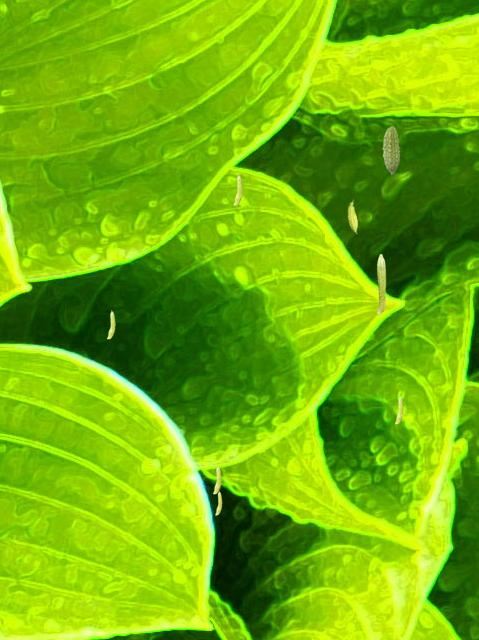ampalaya: (382, 125, 400, 175), (376, 253, 386, 315), (347, 199, 358, 234), (233, 173, 242, 205), (106, 309, 115, 339), (212, 464, 221, 494), (394, 394, 403, 424), (214, 490, 222, 515)
